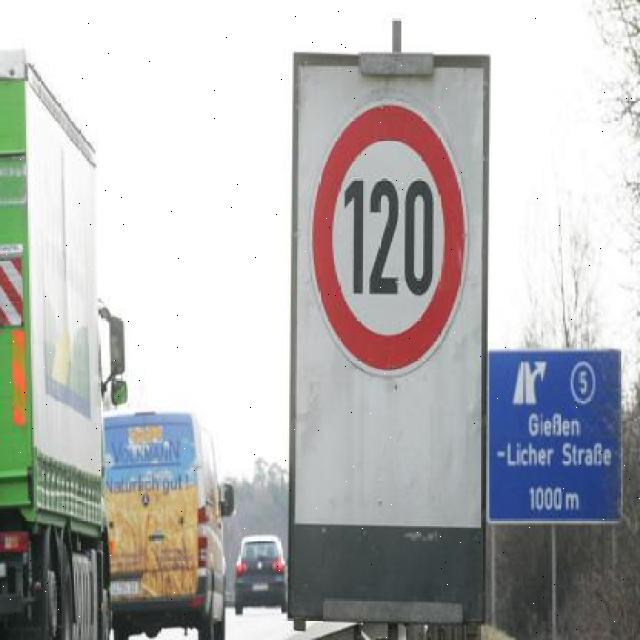speed limit 120: (311, 100, 466, 375)
